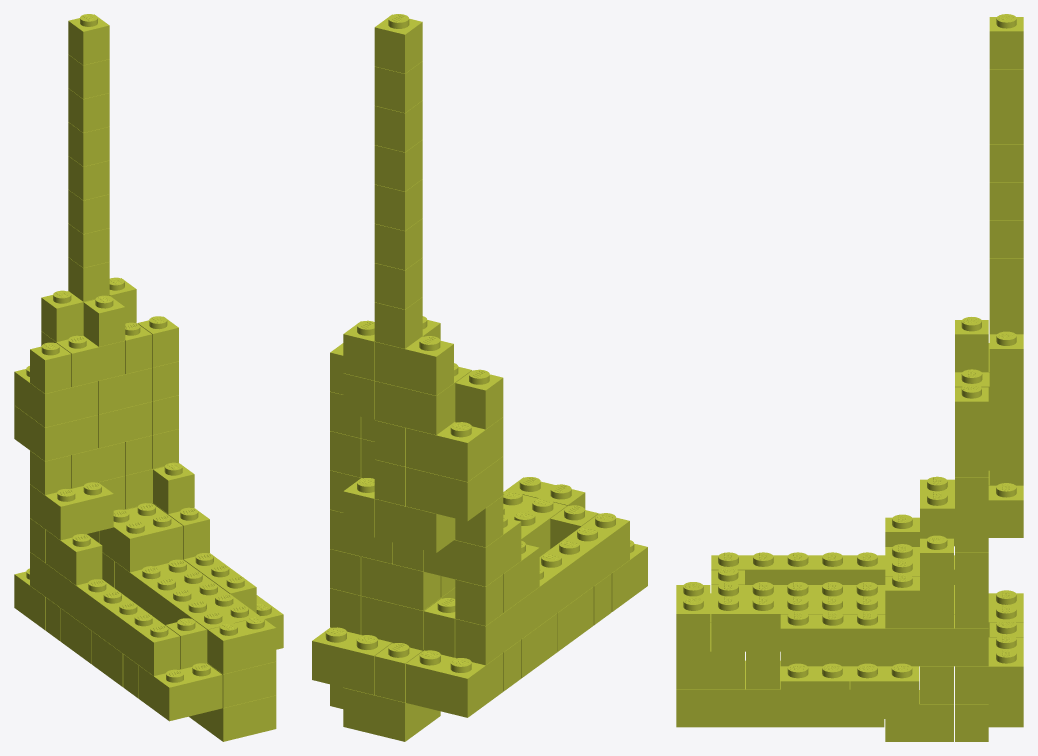
File: 108c2b1b_trial_1_42.glb
The picture shows the model from 3 angles, left to right: view 1: azimuth 30°, elevation 25°; view 2: azimuth 150°, elevation 25°; view 3: azimuth 270°, elevation 25°; orthographic projection. The views are drawn at different scales.
Visible parts, largest first — view 1: 00023_3008.DAT, 00019_2456.DAT, 00027_3003.DAT, 00016_3003.DAT, 00033_3003.DAT, 00020_3004.DAT, 00045_3003.DAT, 00041_3003.DAT, 00005_2456.DAT, 00048_3003.DAT, 00029_3004.DAT, 00010_3003.DAT (+34 smaller); view 2: 00023_3008.DAT, 00011_3003.DAT, 00045_3003.DAT, 00041_3003.DAT, 00052_3004.DAT, 00033_3003.DAT, 00007_3003.DAT, 00048_3003.DAT, 00003_3003.DAT, 00036_3003.DAT, 00026_3004.DAT, 00018_3003.DAT (+35 smaller); view 3: 00017_3009.DAT, 00019_2456.DAT, 00005_2456.DAT, 00023_3008.DAT, 00013_2456.DAT, 00014_2456.DAT, 00007_3003.DAT, 00025_3004.DAT, 00010_3003.DAT, 00020_3004.DAT, 00002_3004.DAT, 00033_3003.DAT (+28 smaller).
Boxes of the visible parts, box(x1,y1,x2,y2) form: 00023_3008.DAT: box(30, 552, 179, 675); 00019_2456.DAT: box(115, 559, 260, 662); 00027_3003.DAT: box(99, 503, 182, 572); 00016_3003.DAT: box(138, 663, 222, 721); 00033_3003.DAT: box(30, 482, 113, 540); 00020_3004.DAT: box(208, 616, 276, 674); 00045_3003.DAT: box(14, 366, 98, 427); 00041_3003.DAT: box(14, 405, 98, 461); 00005_2456.DAT: box(189, 695, 276, 741); 00048_3003.DAT: box(41, 331, 125, 387); 00029_3004.DAT: box(45, 530, 102, 585); 00010_3003.DAT: box(207, 661, 276, 707); 00023_3008.DAT: box(455, 513, 629, 665); 00011_3003.DAT: box(406, 650, 503, 717); 00045_3003.DAT: box(406, 417, 503, 481); 00041_3003.DAT: box(406, 456, 503, 521); 00052_3004.DAT: box(374, 336, 453, 395); 00033_3003.DAT: box(424, 514, 521, 586); 00007_3003.DAT: box(312, 627, 409, 694); 00048_3003.DAT: box(374, 363, 471, 434); 00003_3003.DAT: box(343, 687, 440, 741); 00036_3003.DAT: box(374, 499, 455, 552); 00026_3004.DAT: box(361, 556, 440, 610); 00018_3003.DAT: box(361, 587, 455, 649); 00017_3009.DAT: box(780, 611, 988, 666); 00019_2456.DAT: box(711, 582, 885, 651); 00005_2456.DAT: box(676, 660, 884, 727); 00023_3008.DAT: box(711, 552, 954, 584); 00013_2456.DAT: box(850, 663, 919, 718); 00014_2456.DAT: box(780, 663, 849, 718); 00007_3003.DAT: box(955, 634, 1023, 703); 00025_3004.DAT: box(885, 573, 953, 628); 00010_3003.DAT: box(676, 622, 744, 689); 00020_3004.DAT: box(676, 582, 710, 651); 00002_3004.DAT: box(885, 690, 953, 741); 00033_3003.DAT: box(920, 476, 954, 546).
Size of the model in its own units: 0.0478 by 0.1743 by 0.0798.
